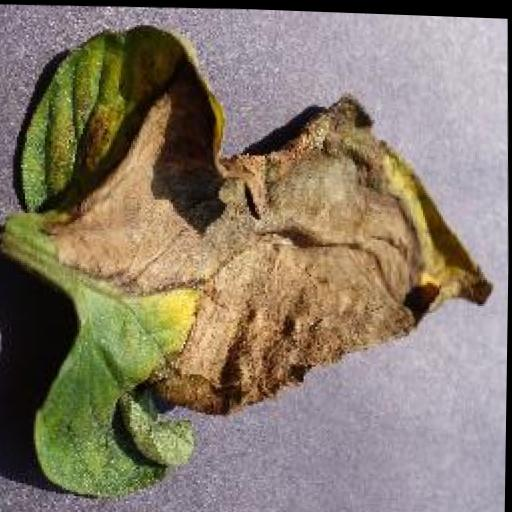Late Blight: (11, 11, 503, 509)
